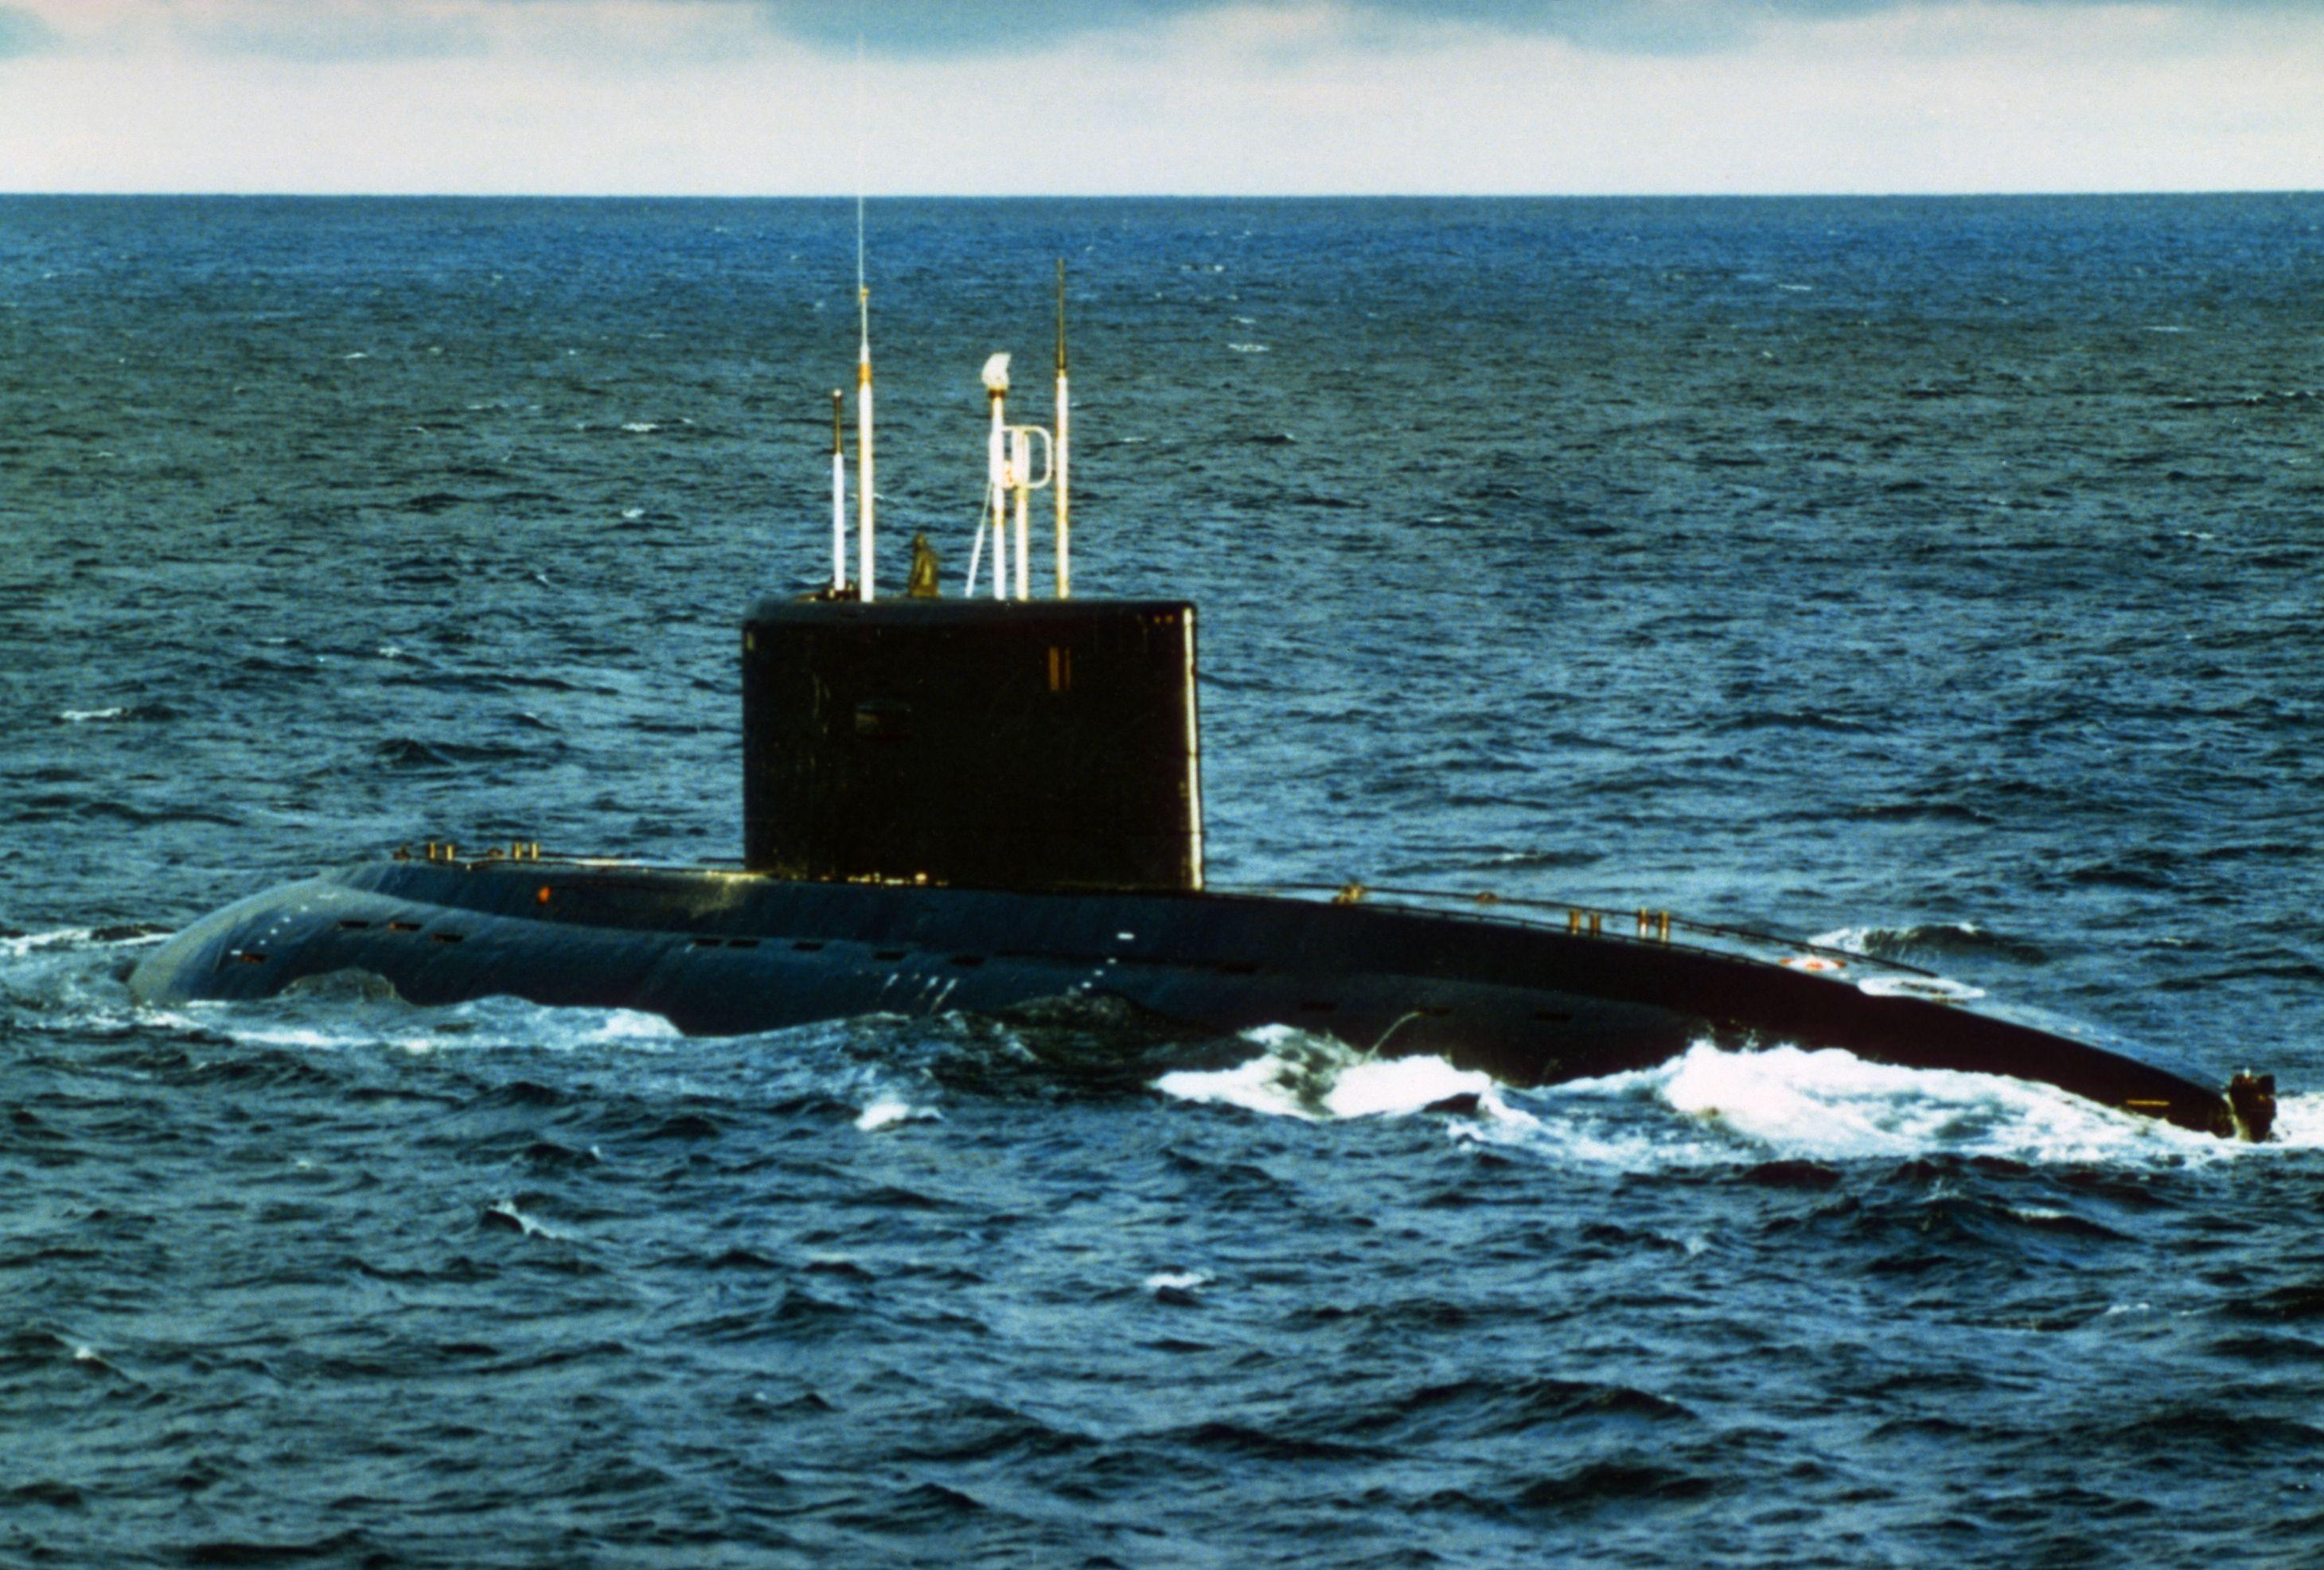Submarine: (60, 290, 2324, 1570)
